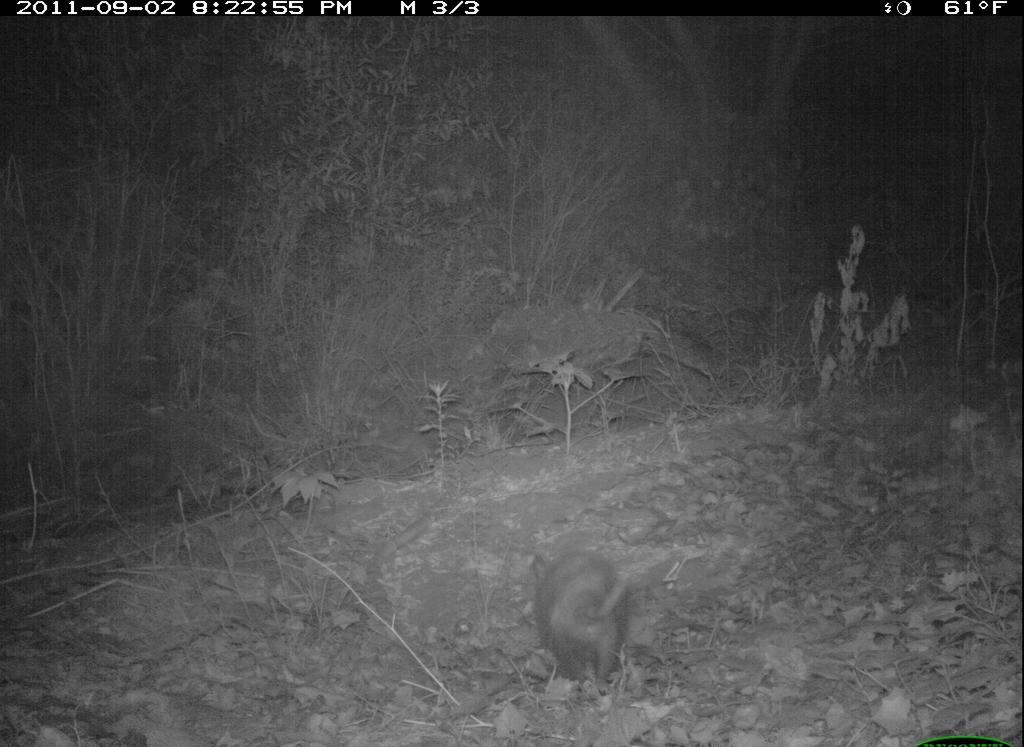opossum: (527, 543, 674, 698)
